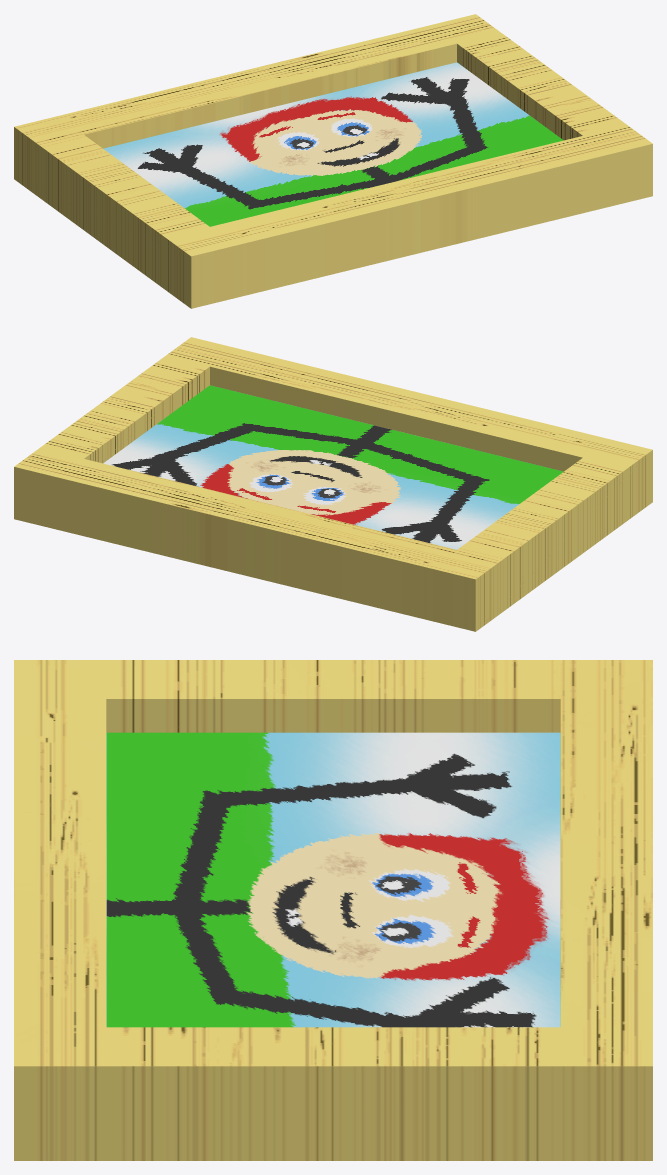
Rendered from portrait.FBX.
The picture shows the model from 3 angles, top to bottom: view 1: azimuth 30°, elevation 25°; view 2: azimuth 150°, elevation 25°; view 3: azimuth 270°, elevation 25°; orthographic projection. The views are drawn at different scales.
Parts seen in each view (by area): view 1: Box008; view 2: Box008; view 3: Box008.
Boxes of the visible parts, x1,y1,x2,y2 form: Box008: (14,14,652,308); Box008: (14,337,652,631); Box008: (14,660,652,1160).
Bounding box in the file's own units: 52.02 × 5.64 × 34.58.
